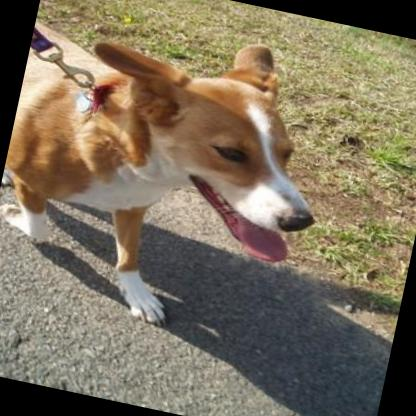dingo: (0, 0, 346, 353)
